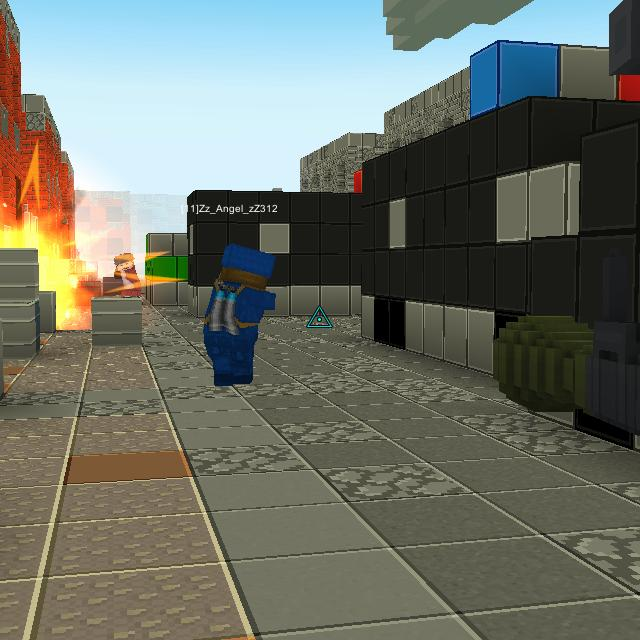enemy: (114, 250, 144, 300)
